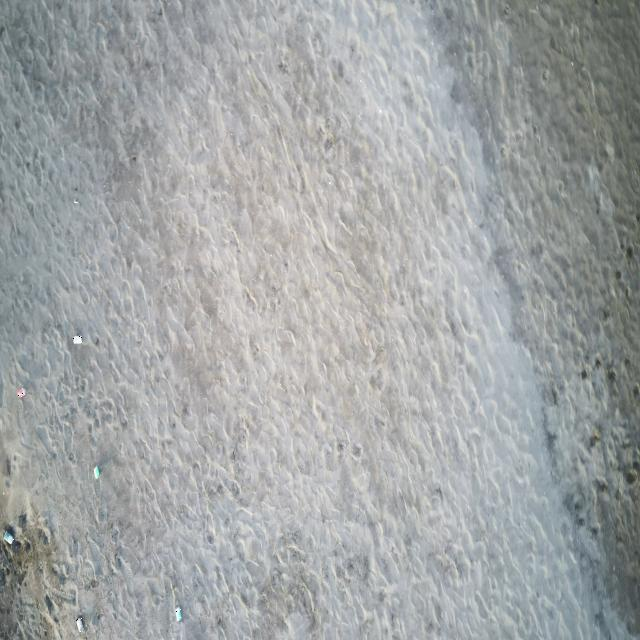Garbage: (75, 615, 83, 632), (3, 529, 11, 544), (92, 465, 100, 479), (175, 606, 181, 620), (16, 387, 24, 396), (72, 335, 80, 343), (72, 199, 77, 203)
